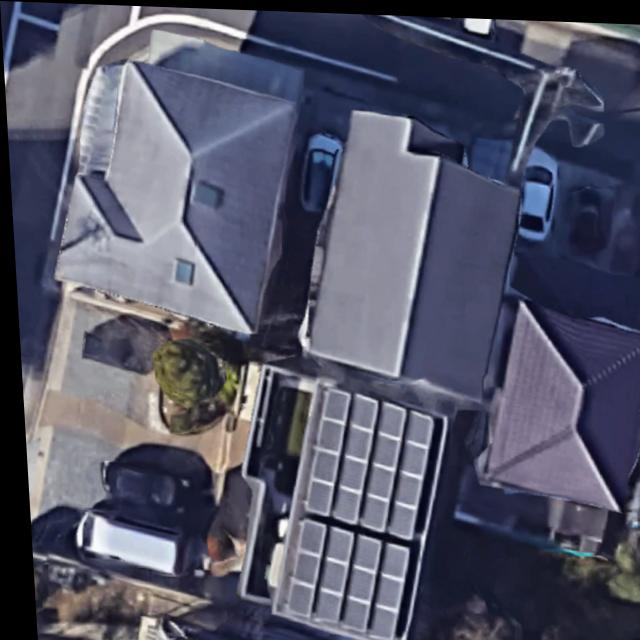Batiment: (53, 38, 302, 330), (300, 108, 516, 398), (263, 380, 441, 640), (471, 296, 640, 505)
